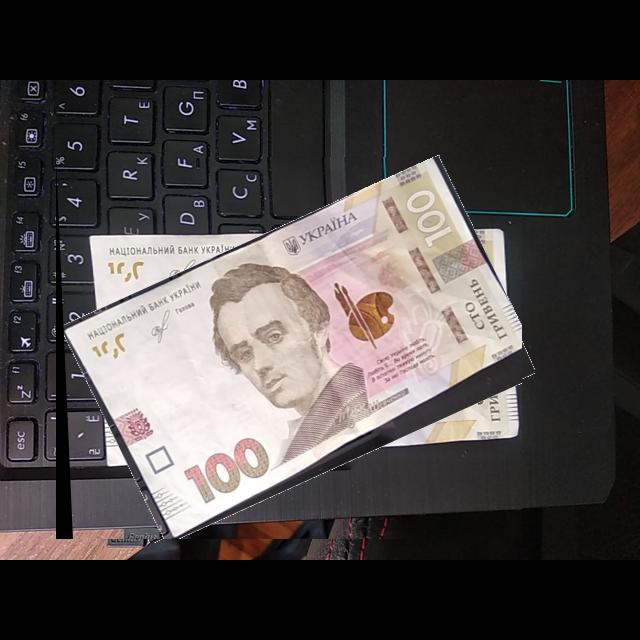100uah: (62, 158, 523, 540)
